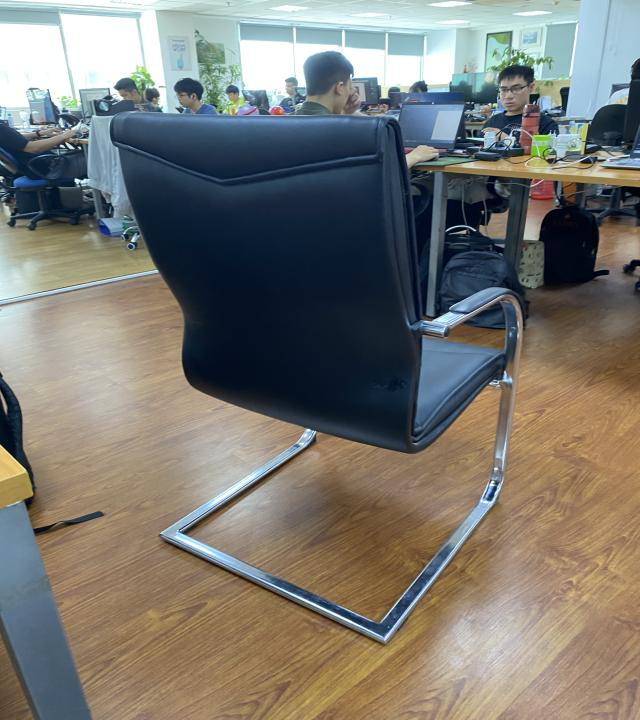SS_03: (106, 109, 524, 646)
